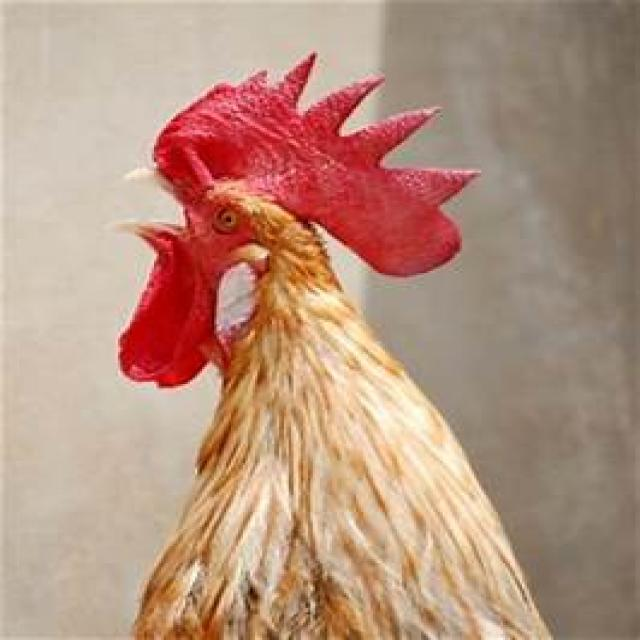hen: (120, 55, 551, 639)
